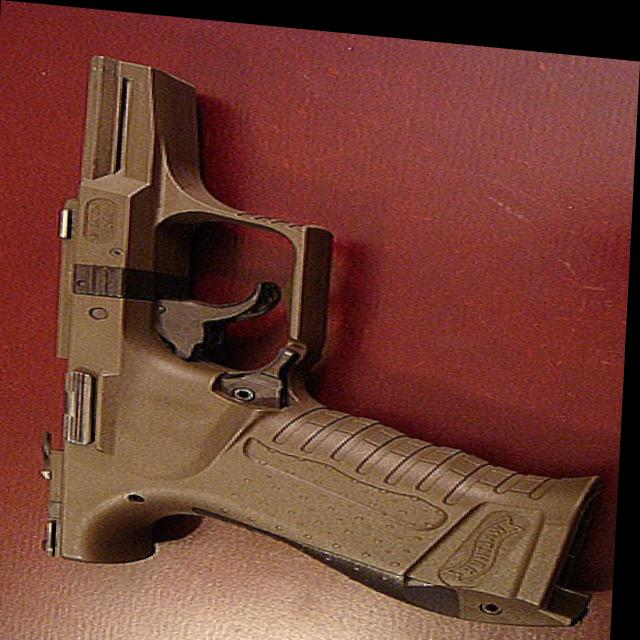handgun: (34, 45, 613, 620)
